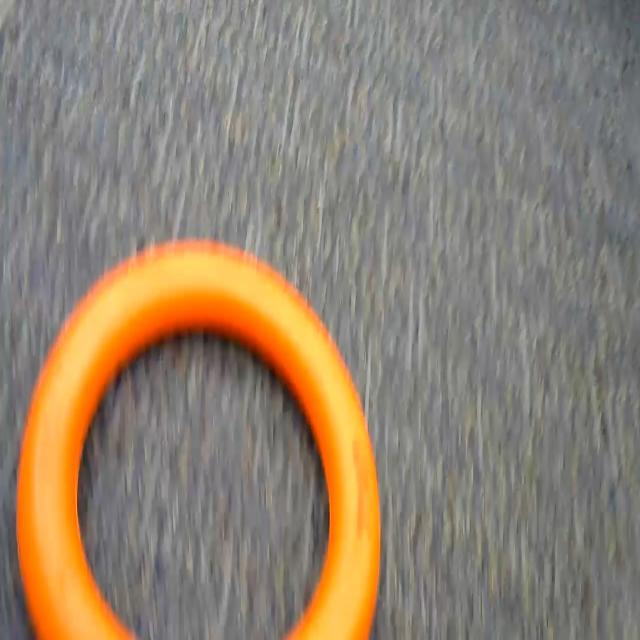note: (13, 226, 386, 640)
